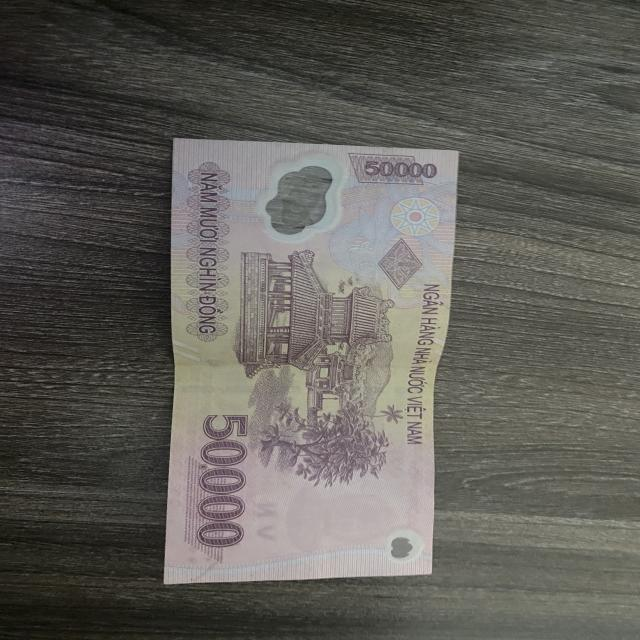50 000 VND: (163, 136, 460, 581)
